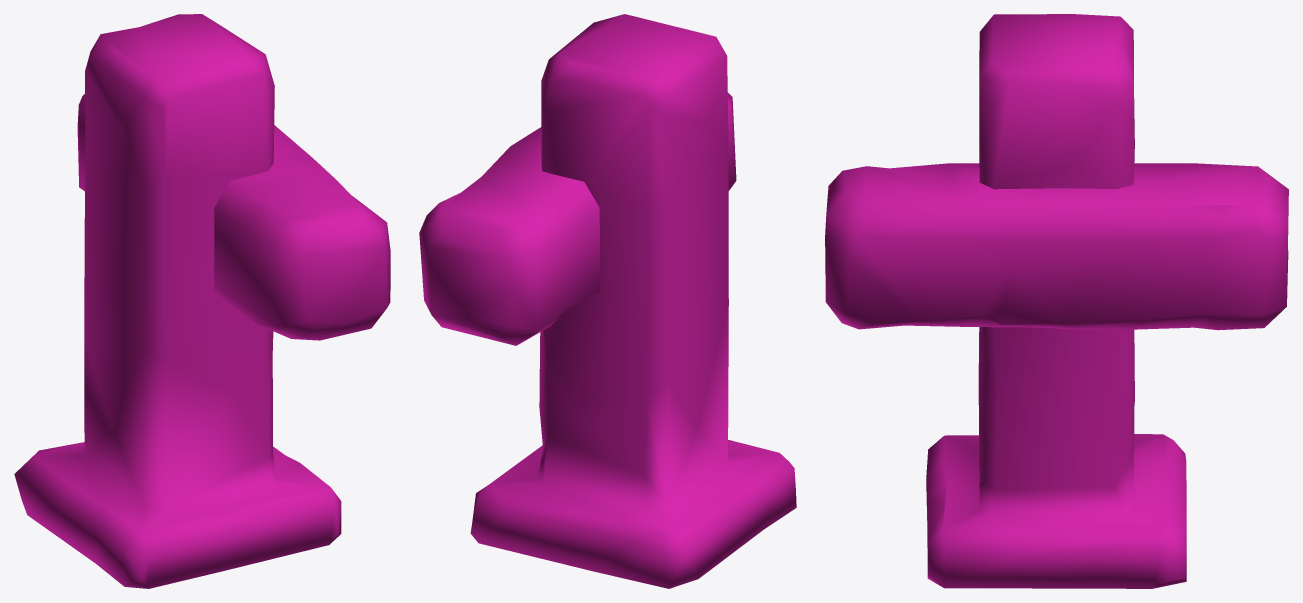
File: Tombstones.002.fbx
3 views of the same model, side by side, from view 1: azimuth 30°, elevation 25°; view 2: azimuth 150°, elevation 25°; view 3: azimuth 270°, elevation 25° (orthographic). The views are drawn at different scales.
Parts seen in each view (by area): view 1: Tombstones.002; view 2: Tombstones.002; view 3: Tombstones.002.
Part boxes in pixels (left/top/right/bottom): Tombstones.002: left=14, top=14, right=390, bottom=588; Tombstones.002: left=419, top=14, right=796, bottom=588; Tombstones.002: left=825, top=14, right=1288, bottom=588.
Bounding box in the file's own units: 286 × 585 × 498.
